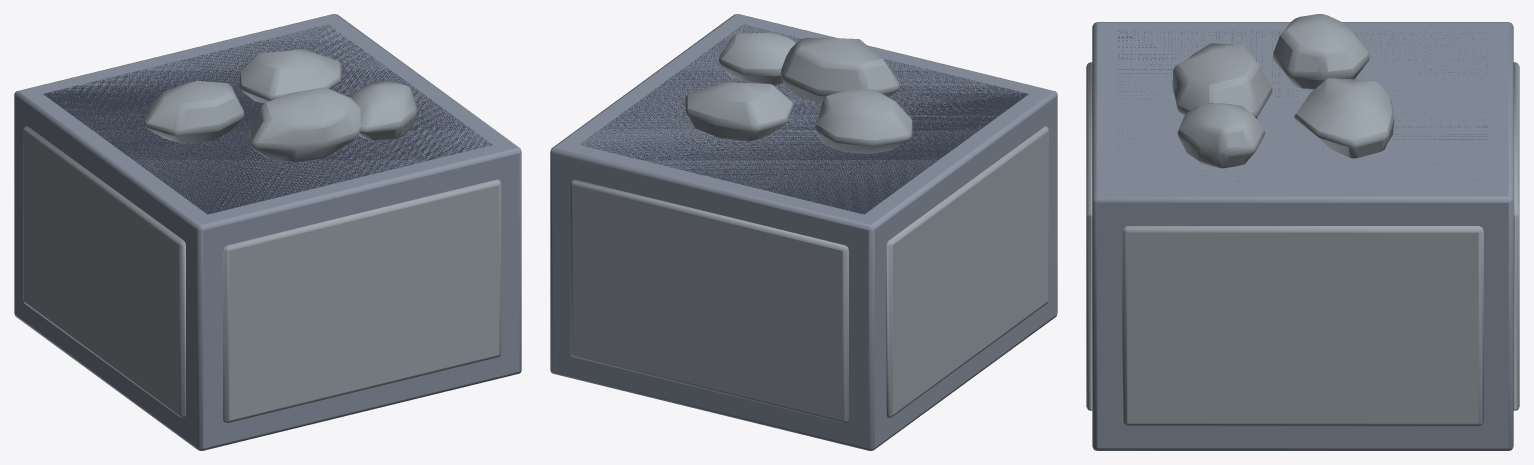
File: ware_metall.fbx
3 renders of one model, left to right at view 1: azimuth 30°, elevation 25°; view 2: azimuth 150°, elevation 25°; view 3: azimuth 270°, elevation 25°, orthographic. The views are drawn at different scales.
Parts seen in each view (by area): view 1: ware_metall_Koerper; view 2: ware_metall_Koerper; view 3: ware_metall_Koerper.
Boxes of the visible parts, x1,y1,x2,y2 form: ware_metall_Koerper: (14, 14, 521, 450); ware_metall_Koerper: (550, 14, 1057, 450); ware_metall_Koerper: (1086, 14, 1519, 450).
Bounding box in the file's own units: 0.432 × 0.3439 × 0.432.
